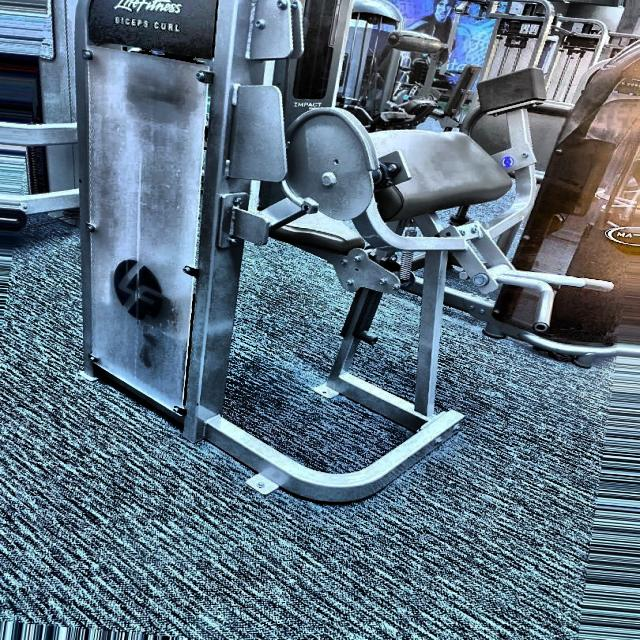bicep_curl_machine: (230, 5, 615, 532), (104, 10, 190, 44)
